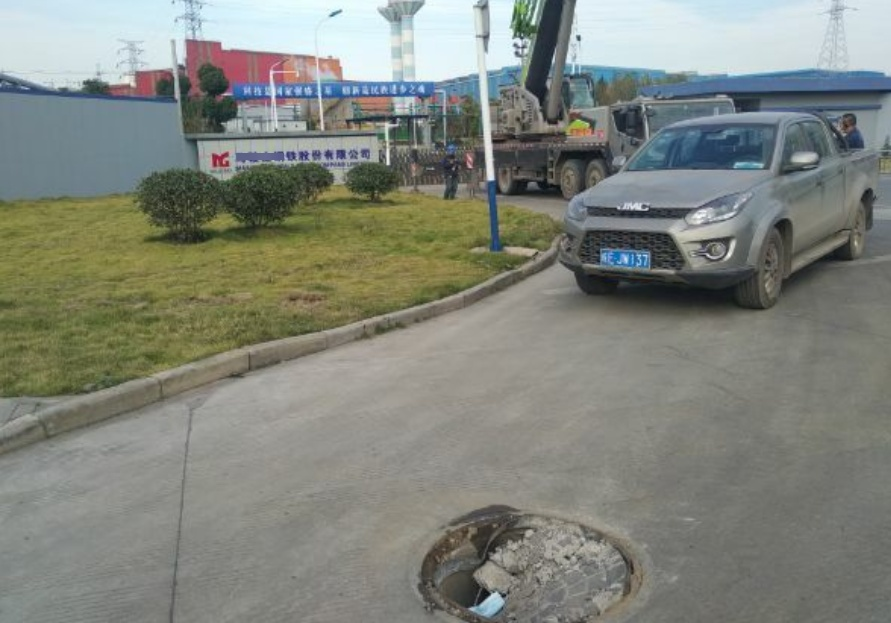well: (412, 505, 645, 622)
